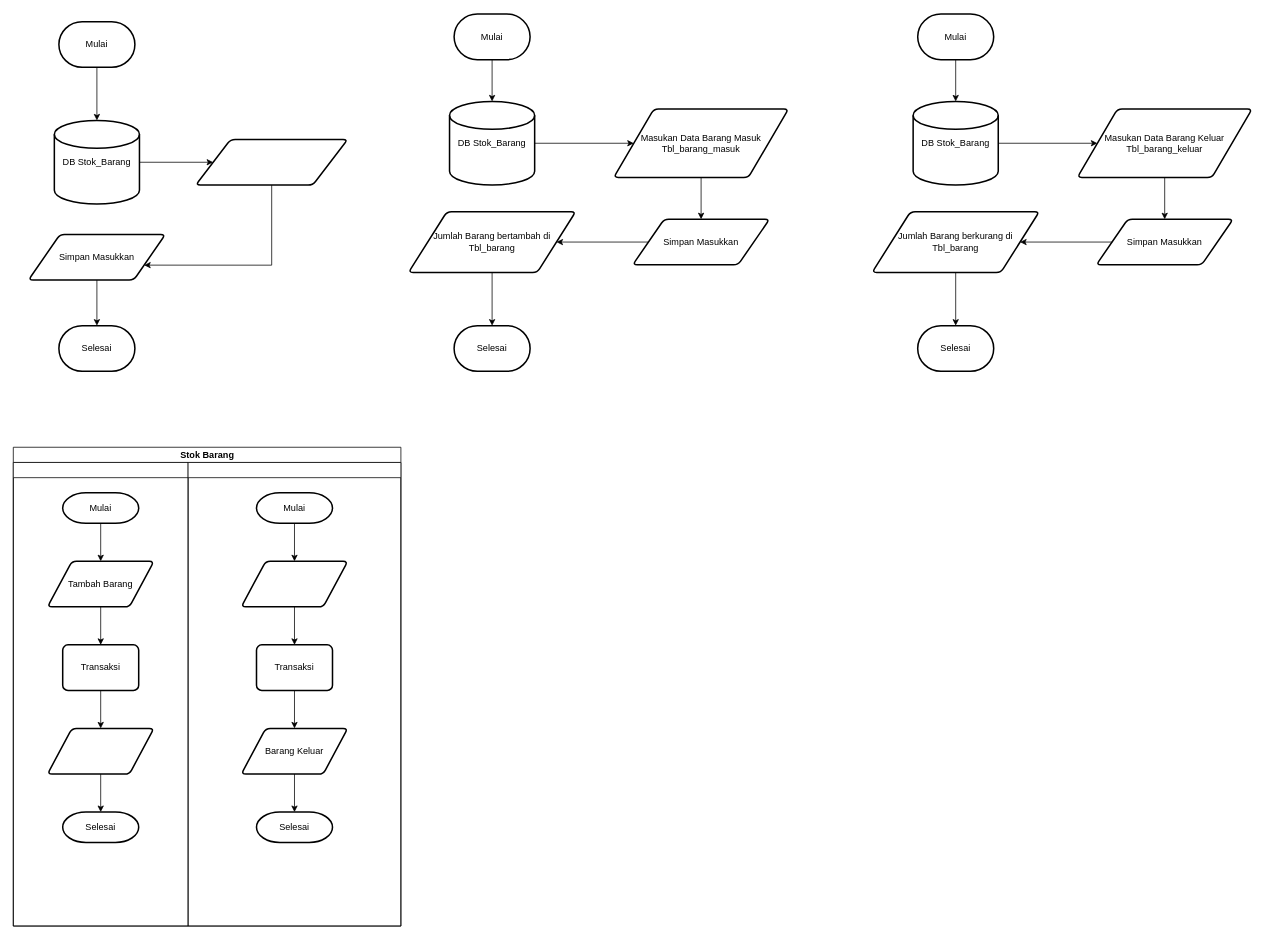
Some shapes in this 1266 by 939 pixel diagram are drawn without their labels. Each missing label, with the box of its shape:
Barang Masuk: (46, 727, 154, 774)
Beli Barang: (240, 560, 348, 607)
Customer: (187, 462, 401, 926)
Masukan Data Barang Tbl_barang: (195, 138, 348, 185)
Supplier: (13, 462, 188, 926)
